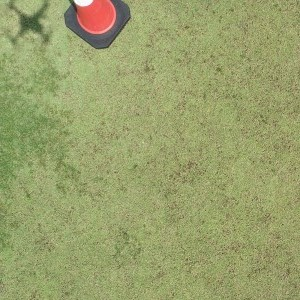traffic cone: (63, 1, 130, 49)
